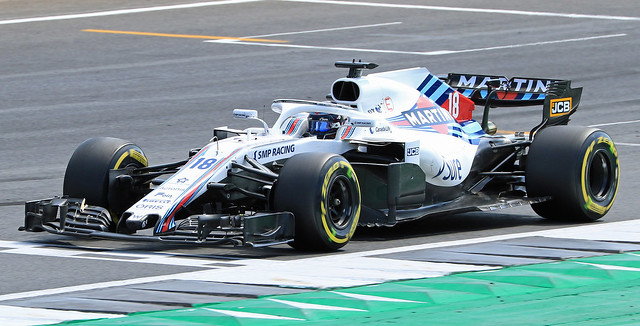F1 Car: (18, 58, 622, 253)
